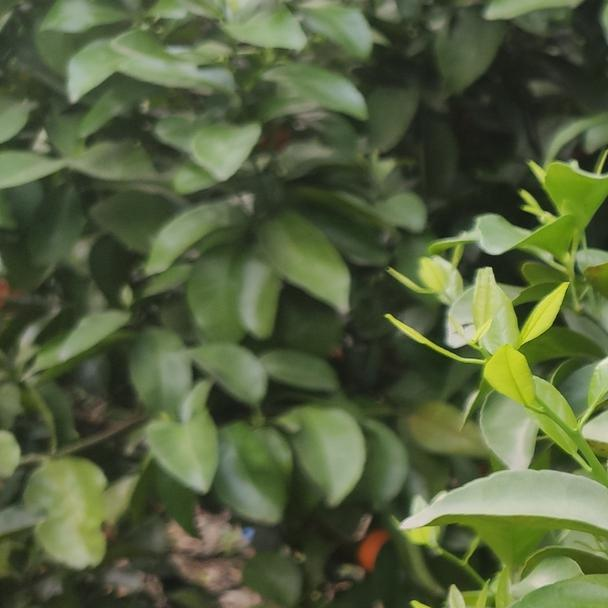shoot: (402, 271, 608, 452)
